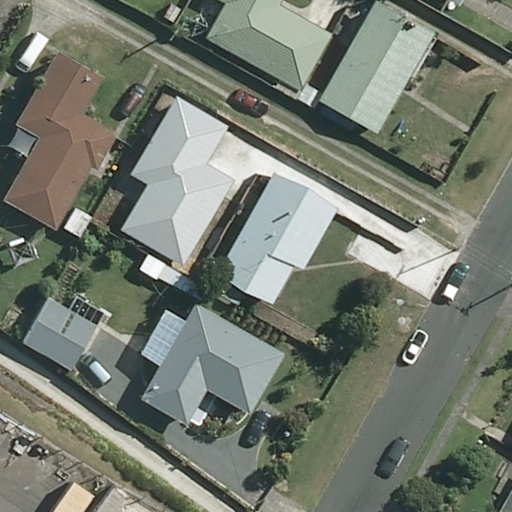DT: (169, 25, 185, 48), (450, 234, 467, 254)
